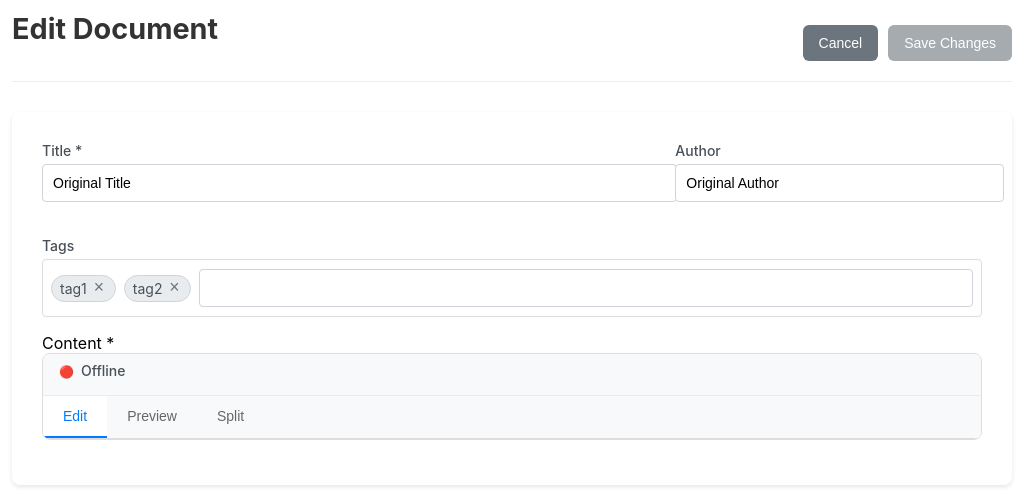
DocumentEdit › form submission › shows saving state during submission
This screenshot has width=1024, height=504.
Replace the text in the field labelled "Title *" with "Updated Title". click: (360, 183)
box: [42,164,677,202]
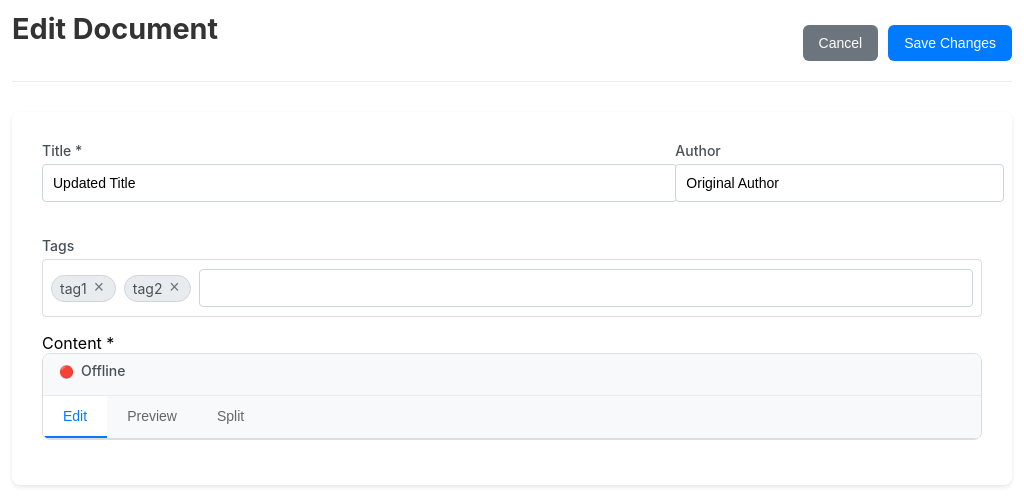
Click the button "Save Changes". click: (950, 43)
box: [888,25,1012,61]
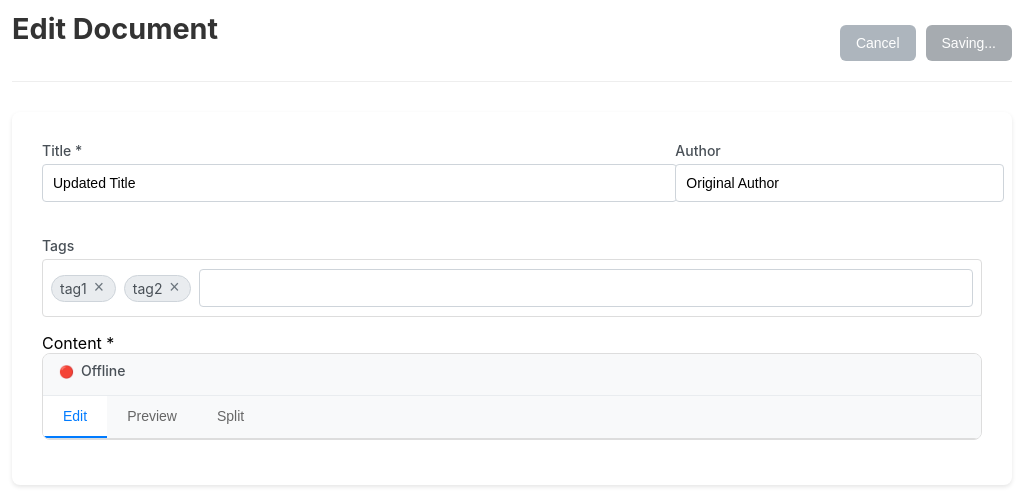
expect the button "Saving..." is shown: met, box [926,25,1012,61]
